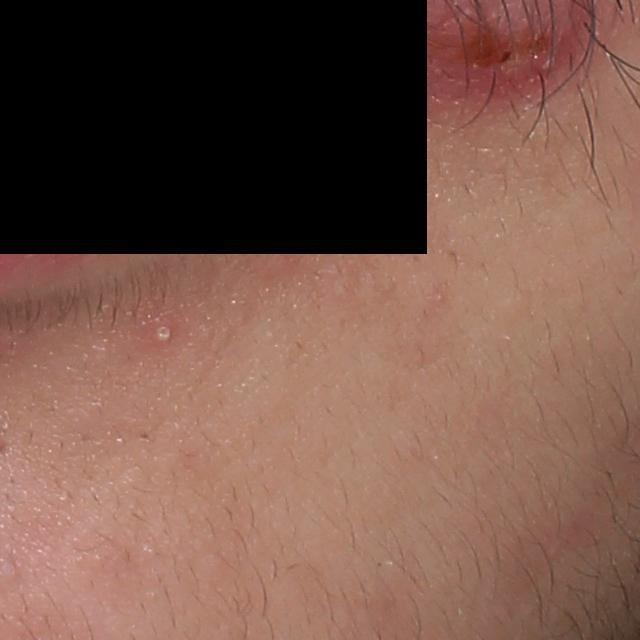pustule: (142, 310, 185, 350)
